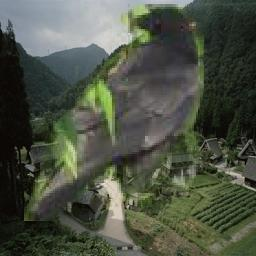Crow: (24, 5, 204, 222)
